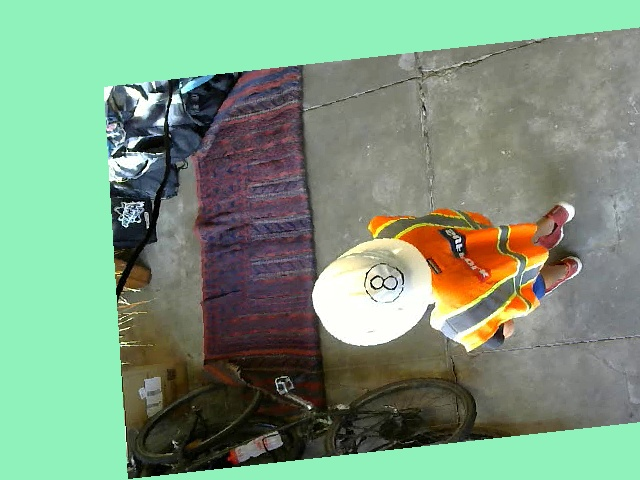eight: (361, 260, 404, 307)
